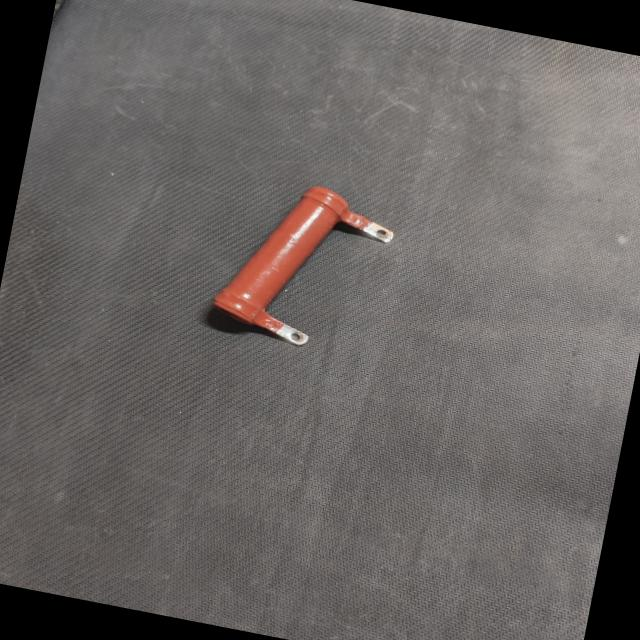resistor: (186, 154, 418, 376)
